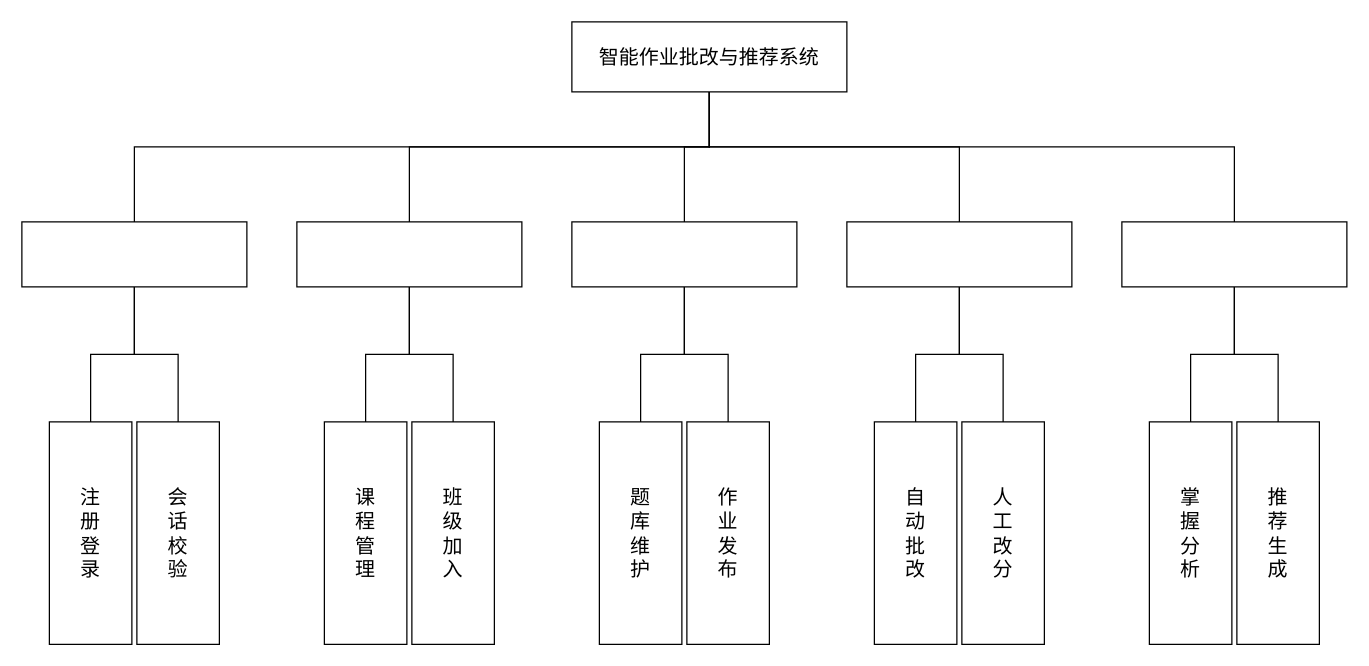
The diagram is 1369 pixels wide and 666 high, and some of its shapes have lost their labels. The centre of each missing label's shape, as x and y in pixels:
学习画像模块: (1234,254)
批改反馈模块: (959,254)
用户认证模块: (134,254)
课程班级模块: (409,254)
题库作业模块: (684,254)
